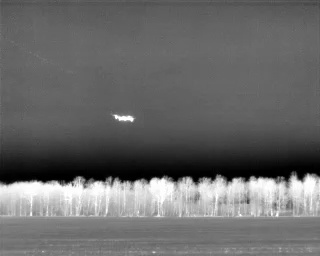DRONE: (109, 109, 139, 127)
